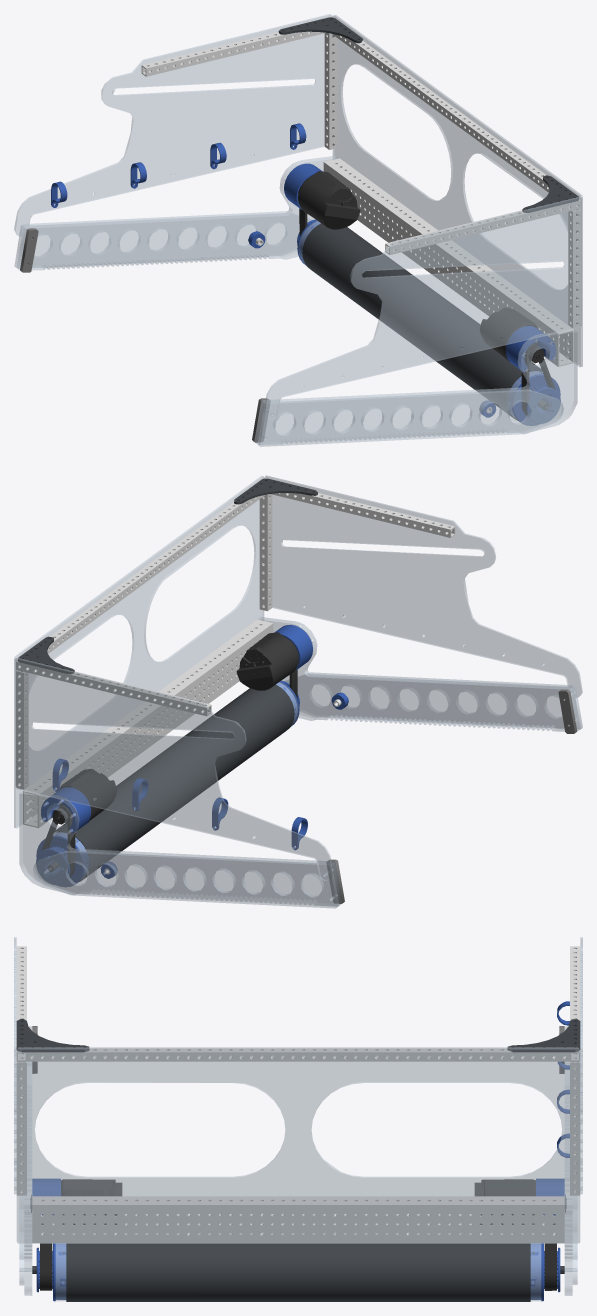
File: 7769-slide.glb
3 renders of one model, top to bottom at view 1: azimuth 30°, elevation 25°; view 2: azimuth 150°, elevation 25°; view 3: azimuth 270°, elevation 25°, orthographic. The views are drawn at different scales.
Visible parts, largest first — view 1: Arm Opp, 1/2" x 1/2" x 0.0625" MAXTube (12" L, Full Pattern, 0.5" Pit, Corner Gusset Moving, Intake Motor Spacer, 12t Aluminum Pulley (HTD 5mm, 15mm Wide, 8mm SplineXS Bore), Stop Plate 2, 55t 5mm Belt; view 2: Arm Opp, 1/2" x 1/2" x 0.0625" MAXTube (12" L, Full Pattern, 0.5" Pit, Corner Gusset Moving, Intake Motor Spacer, 12t Aluminum Pulley (HTD 5mm, 15mm Wide, 8mm SplineXS Bore), Stop Plate 2, 55t 5mm Belt; view 3: Arm Opp, 1/2" x 1/2" x 0.0625" MAXTube (12" L, Full Pattern, 0.5" Pit, Corner Gusset Moving, Intake Motor Spacer, 12t Aluminum Pulley (HTD 5mm, 15mm Wide, 8mm SplineXS Bore), 55t 5mm Belt.
Part boxes in pixels (box(x1,y1,x2,y2)): Arm Opp: box(14, 14, 582, 446); 1/2" x 1/2" x 0.0625" MAXTube (12" L, Full Pattern, 0.5" Pit: box(141, 31, 580, 413); Corner Gusset Moving: box(278, 17, 579, 420); Intake Motor Spacer: box(51, 123, 560, 425); 12t Aluminum Pulley (HTD 5mm, 15mm Wide, 8mm SplineXS Bore): box(298, 171, 544, 363); Stop Plate 2: box(20, 228, 270, 442); 55t 5mm Belt: box(299, 208, 555, 415); Arm Opp: box(14, 475, 582, 908); 1/2" x 1/2" x 0.0625" MAXTube (12" L, Full Pattern, 0.5" Pit: box(16, 493, 455, 874); Corner Gusset Moving: box(18, 478, 317, 881); Intake Motor Spacer: box(36, 624, 348, 886); 12t Aluminum Pulley (HTD 5mm, 15mm Wide, 8mm SplineXS Bore): box(52, 632, 299, 824); Stop Plate 2: box(327, 689, 576, 903); 55t 5mm Belt: box(41, 669, 297, 877); Arm Opp: box(14, 937, 582, 1301); 1/2" x 1/2" x 0.0625" MAXTube (12" L, Full Pattern, 0.5" Pit: box(16, 946, 580, 1242); Corner Gusset Moving: box(16, 1019, 580, 1301); Intake Motor Spacer: box(32, 1001, 569, 1301); 12t Aluminum Pulley (HTD 5mm, 15mm Wide, 8mm SplineXS Bore): box(30, 1179, 566, 1224); 55t 5mm Belt: box(40, 1223, 556, 1290).
Bounding box in the file's own units: 0.5133 × 0.3583 × 0.6921.
